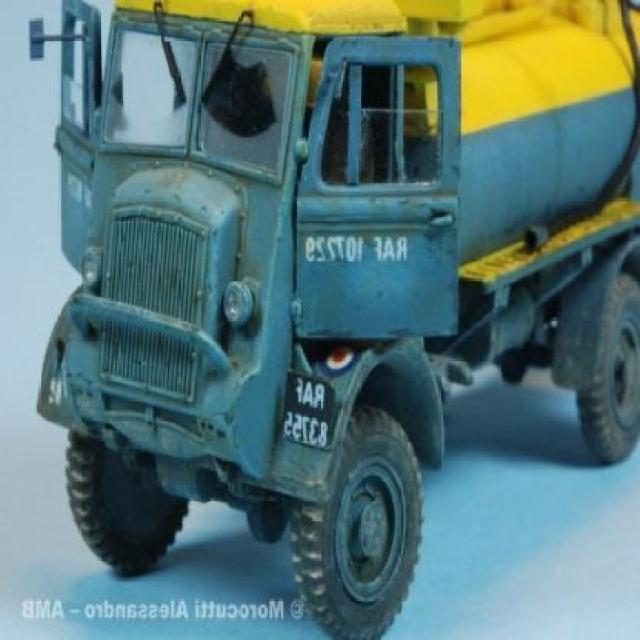Truck: (26, 0, 640, 638)
